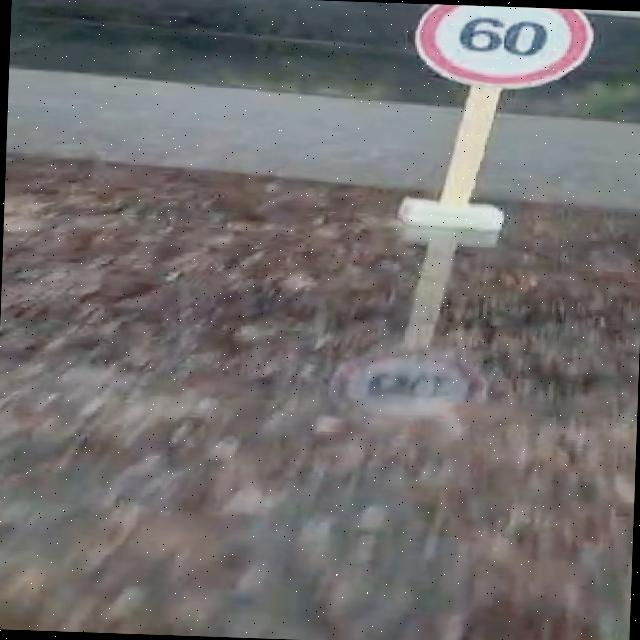Speed60: (408, 3, 598, 96)
